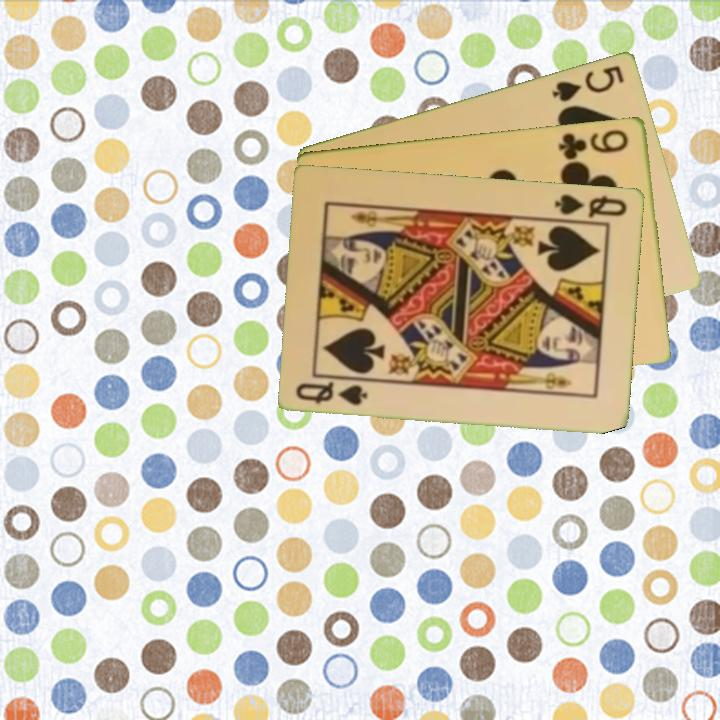5s: (549, 61, 628, 105)
9c: (555, 125, 632, 162)
Qs: (551, 190, 631, 221), (292, 378, 371, 408)
